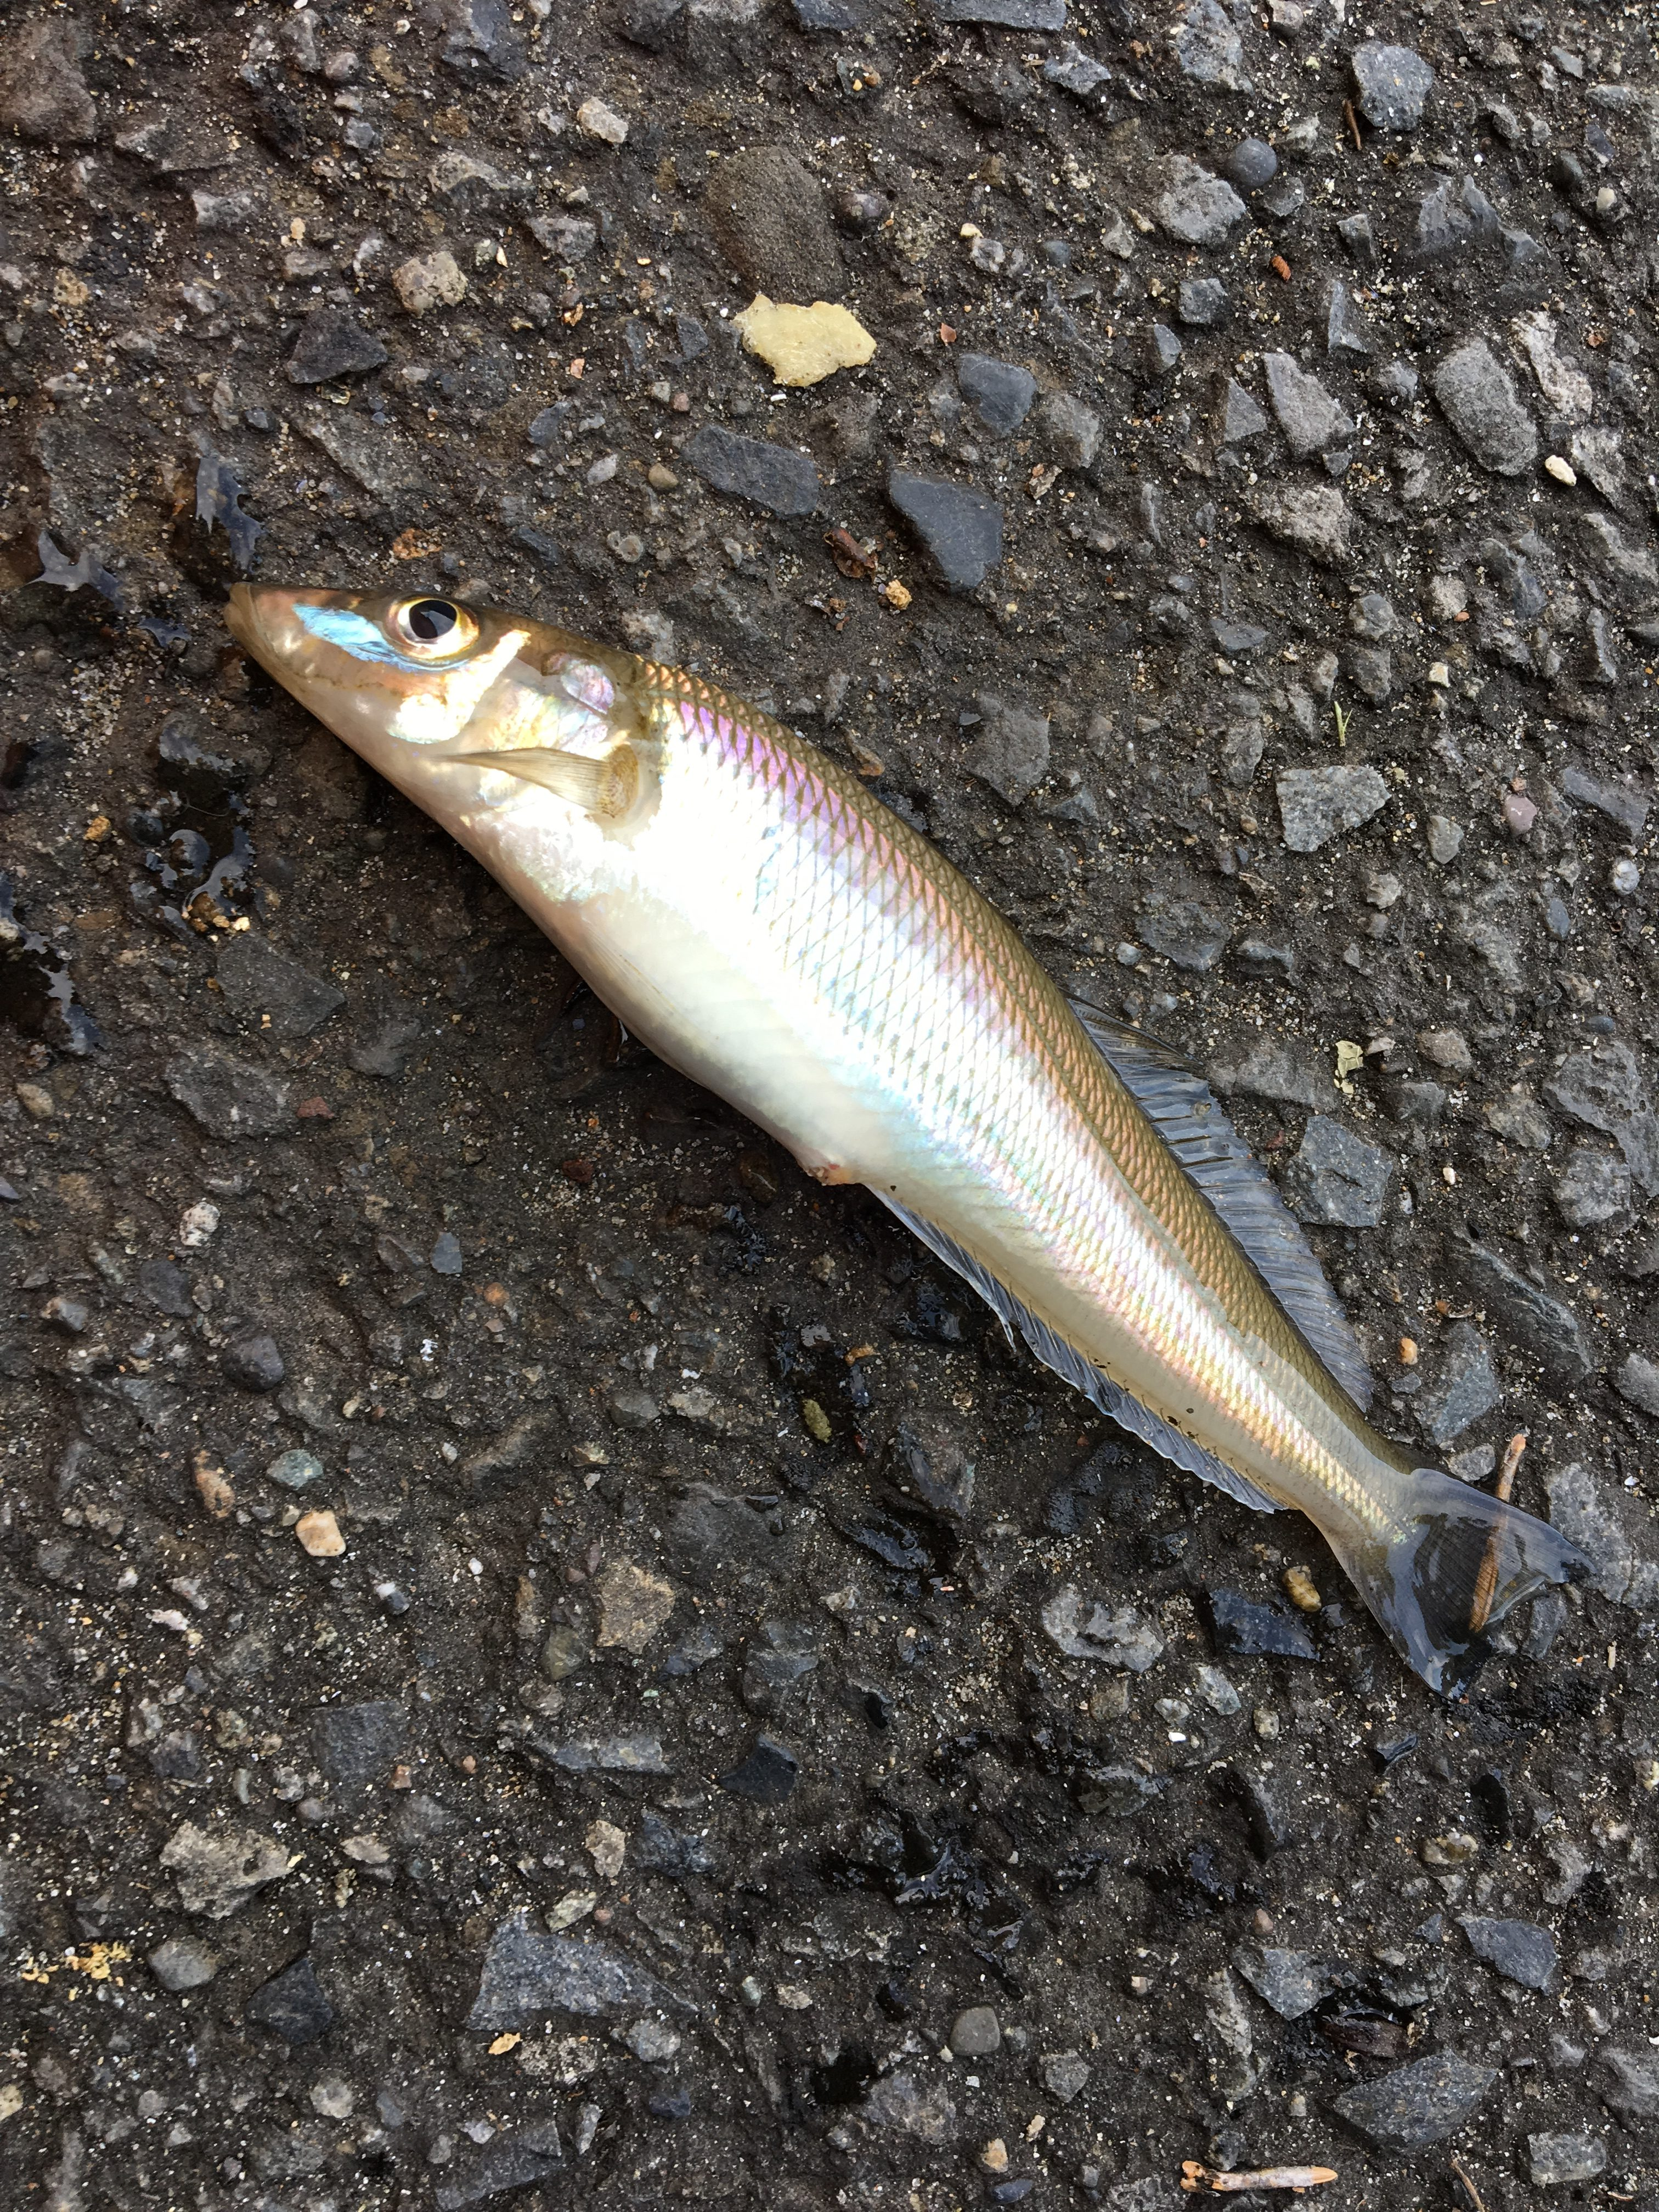kiss: (206, 524, 1621, 1691)
